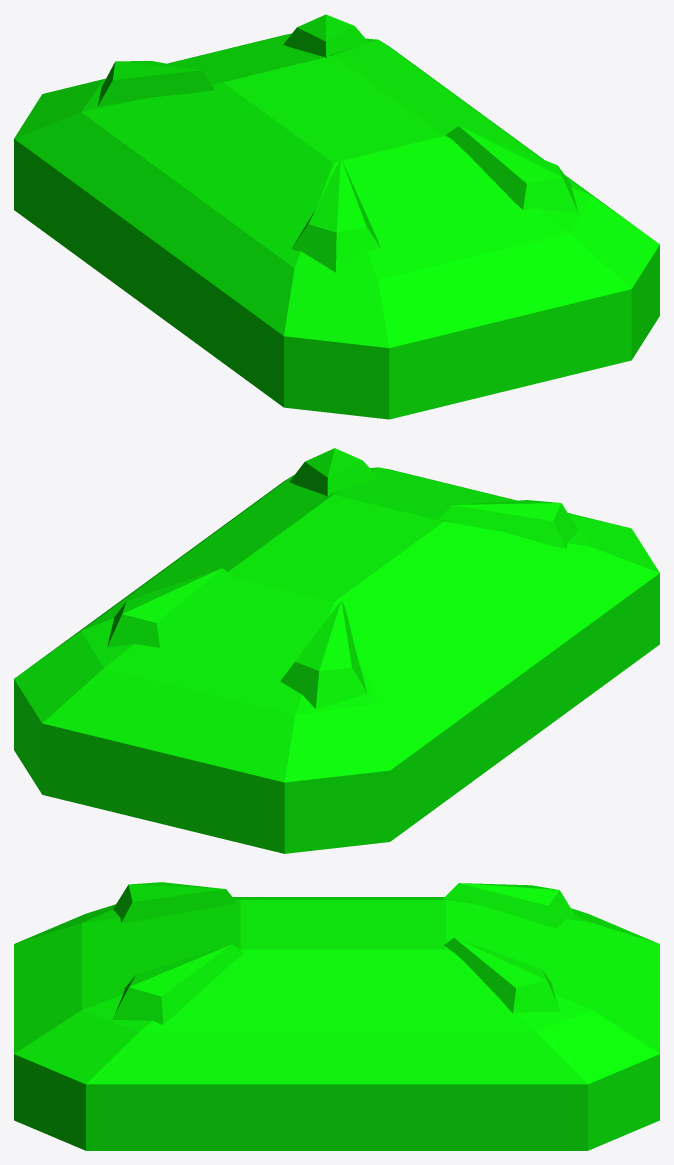
File: SM_Ginger_Bread.fbx
3 renders of one model, top to bottom at view 1: azimuth 30°, elevation 25°; view 2: azimuth 150°, elevation 25°; view 3: azimuth 270°, elevation 25°, orthographic. The views are drawn at different scales.
Visible parts, largest first — view 1: ginger-bread; view 2: ginger-bread; view 3: ginger-bread.
Part boxes in pixels (x1,y1,x2,y2): ginger-bread: (14,14,659,419); ginger-bread: (14,448,659,853); ginger-bread: (14,882,659,1150).
Bounding box in the file's own units: 0.0791 × 0.0327 × 0.1265.
